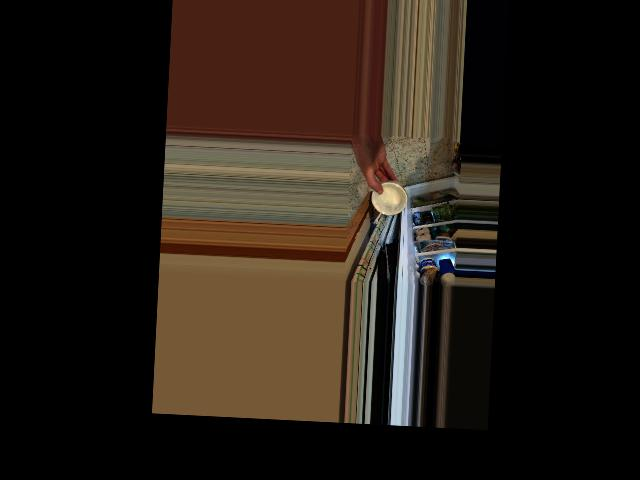cotage: (371, 181, 408, 218)
